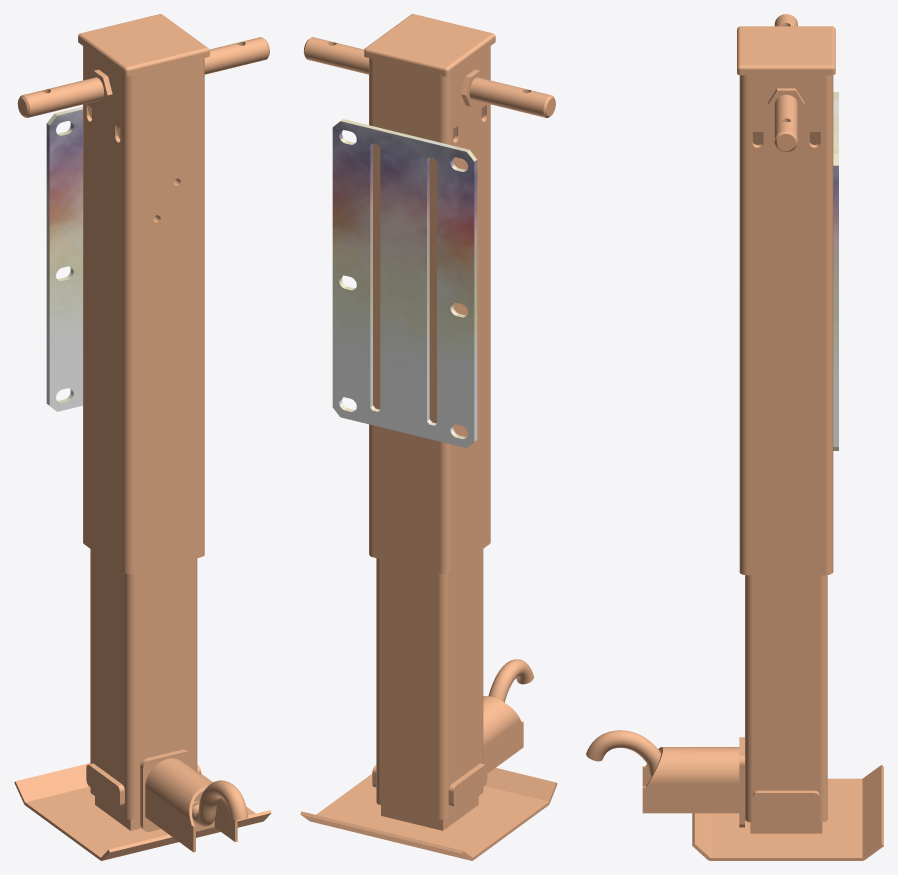
Rendered from jack.glb.
The picture shows the model from 3 angles, left to right: view 1: azimuth 30°, elevation 25°; view 2: azimuth 150°, elevation 25°; view 3: azimuth 270°, elevation 25°; orthographic projection.
Visible parts, largest first — view 1: Cut-Extrude9 - Part, Split1[1] - Part, SP140621-2 - Part, Base-Flange2 - Part; view 2: Cut-Extrude9 - Part, SP140621-2 - Part, Split1[1] - Part, Base-Flange2 - Part; view 3: Cut-Extrude9 - Part, Split1[1] - Part, Base-Flange2 - Part, SP140621-2 - Part.
Part boxes in pixels (bbox=[...]): Cut-Extrude9 - Part: bbox=[17, 14, 269, 574]; Split1[1] - Part: bbox=[86, 549, 248, 852]; SP140621-2 - Part: bbox=[46, 106, 82, 411]; Base-Flange2 - Part: bbox=[14, 763, 271, 860]; Cut-Extrude9 - Part: bbox=[303, 14, 555, 573]; SP140621-2 - Part: bbox=[332, 119, 477, 447]; Split1[1] - Part: bbox=[372, 549, 533, 830]; Base-Flange2 - Part: bbox=[300, 768, 557, 860]; Cut-Extrude9 - Part: bbox=[737, 14, 835, 575]; Split1[1] - Part: bbox=[586, 575, 827, 833]; Base-Flange2 - Part: bbox=[692, 765, 883, 860]; SP140621-2 - Part: bbox=[833, 92, 838, 450].
Size of the model in its own units: 0.3048 by 0.9276 by 0.3229.
Materials: 4 (1 with a texture image).
